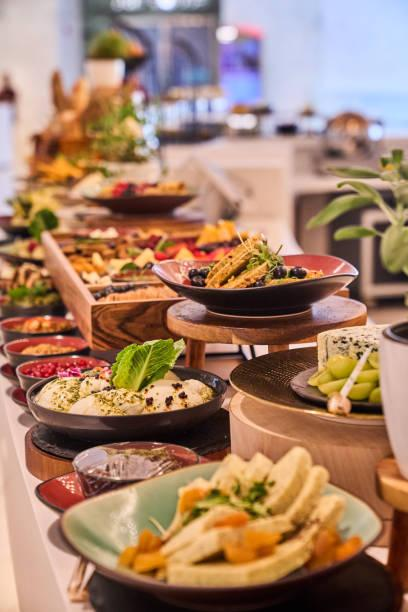Braised Crucian Carp: (58, 458, 381, 607), (152, 238, 363, 332), (25, 366, 226, 440)
